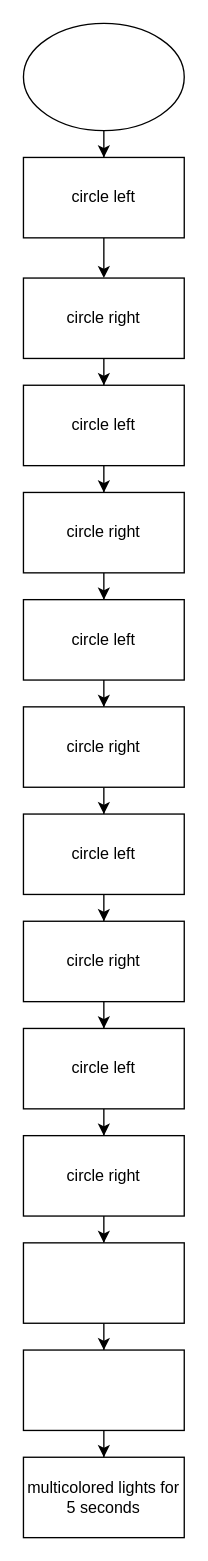
The diagram is 208 pixels wide and 1561 high, and some of its shapes have lost their labels. The centre of each missing label's shape, as x and y in pixels:
say "i am the winner": [103,1389]
Start: [103,76]
stop: [103,1282]
